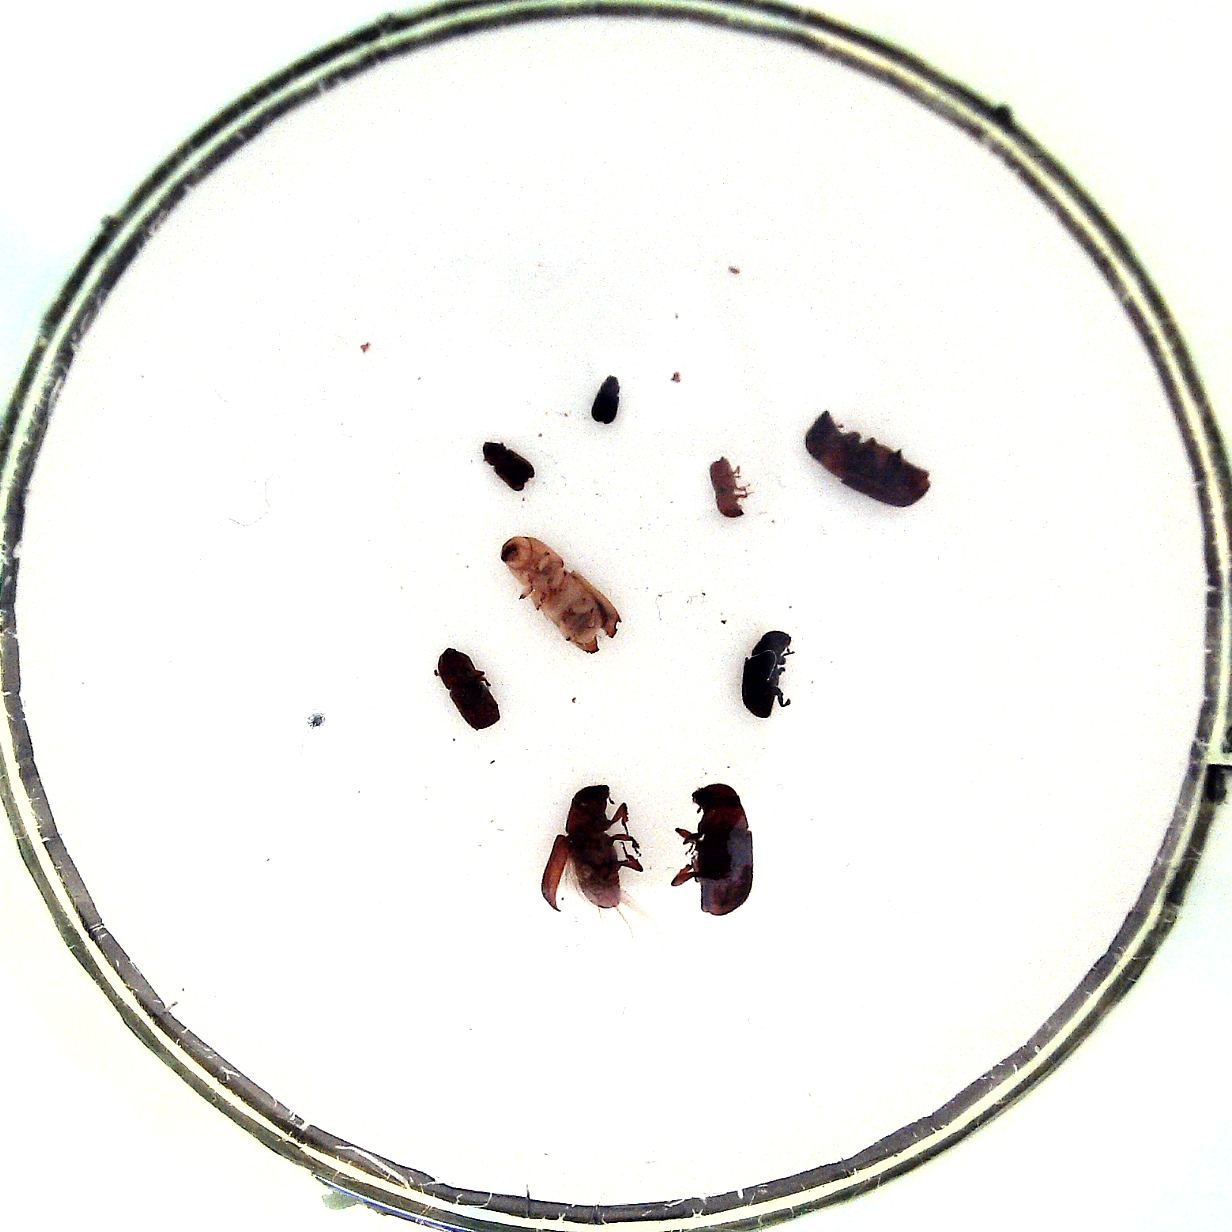Boerner: (502, 536, 621, 653)
Leconte: (806, 410, 932, 508), (693, 783, 754, 915), (564, 784, 621, 908)
acuminatus: (591, 376, 621, 425)
armandi: (741, 630, 791, 718)
coleoptera: (482, 441, 535, 491)
linnaeus: (437, 646, 501, 730)
